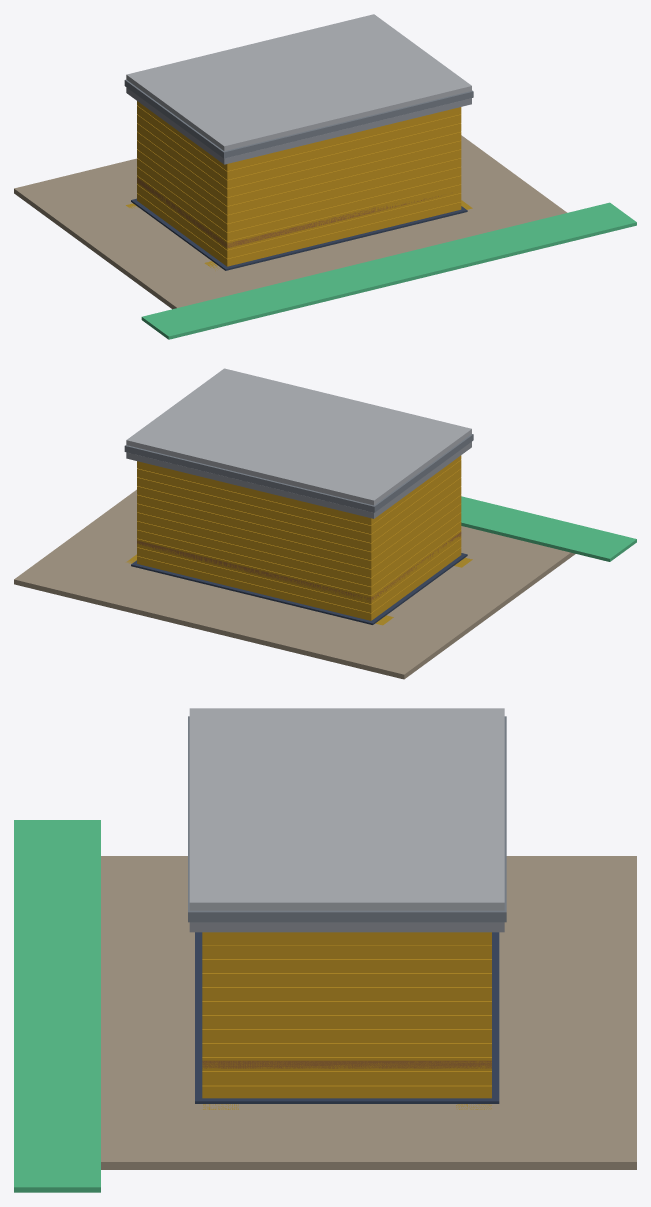
File: construction_master.glb
3 views of the same model, one above another, from view 1: azimuth 30°, elevation 25°; view 2: azimuth 150°, elevation 25°; view 3: azimuth 270°, elevation 25° (orthographic). The views are drawn at different scales.
Visible parts, largest first — view 1: world; view 2: world; view 3: world.
Boxes of the visible parts, x1,y1,x2,y2 form: world: (14, 14, 636, 339); world: (14, 368, 636, 679); world: (14, 708, 636, 1192).
Bounding box in the file's own units: 12 × 3.9 × 8.6.
